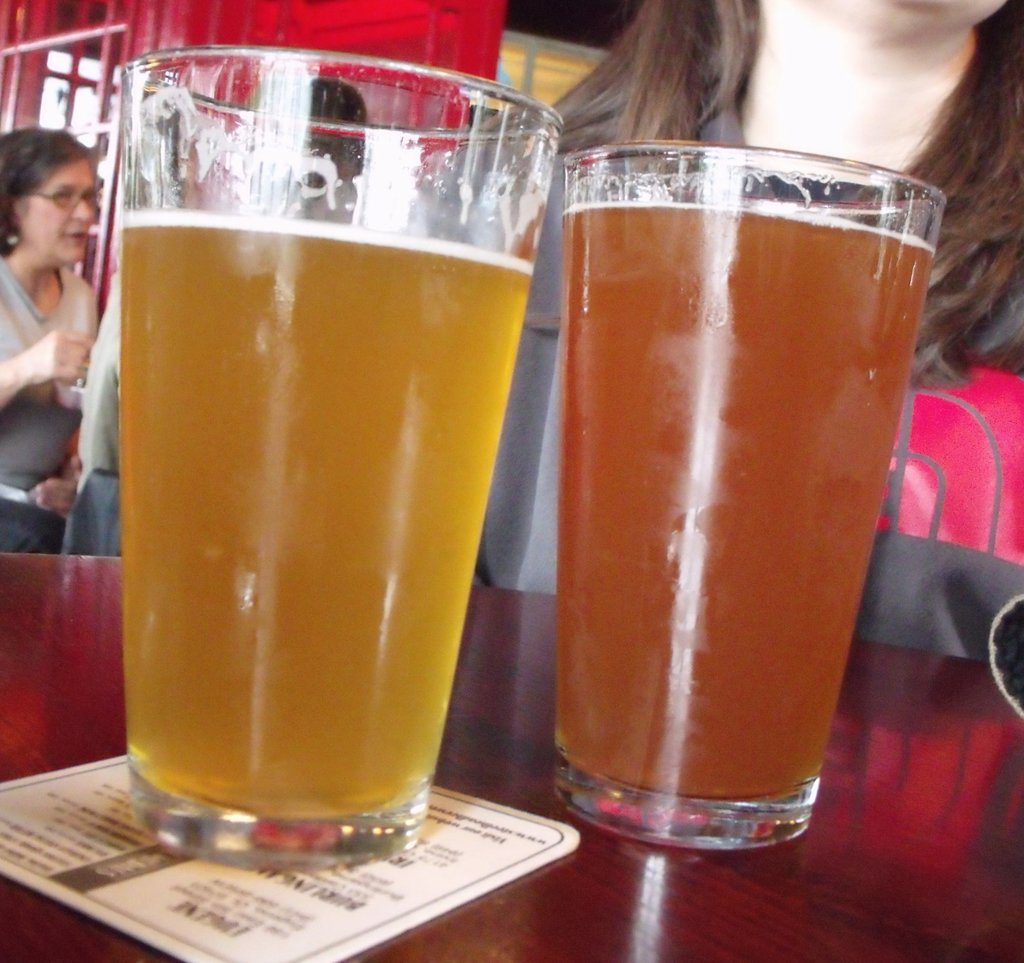Beer: (119, 45, 563, 866), (562, 137, 946, 850)
